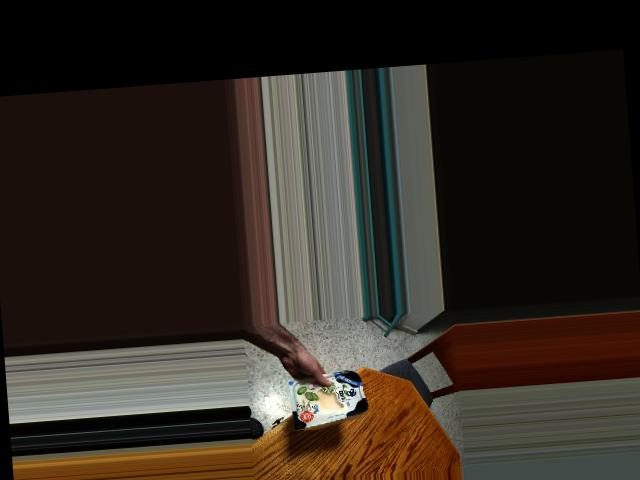cheese: (297, 368, 371, 425)
